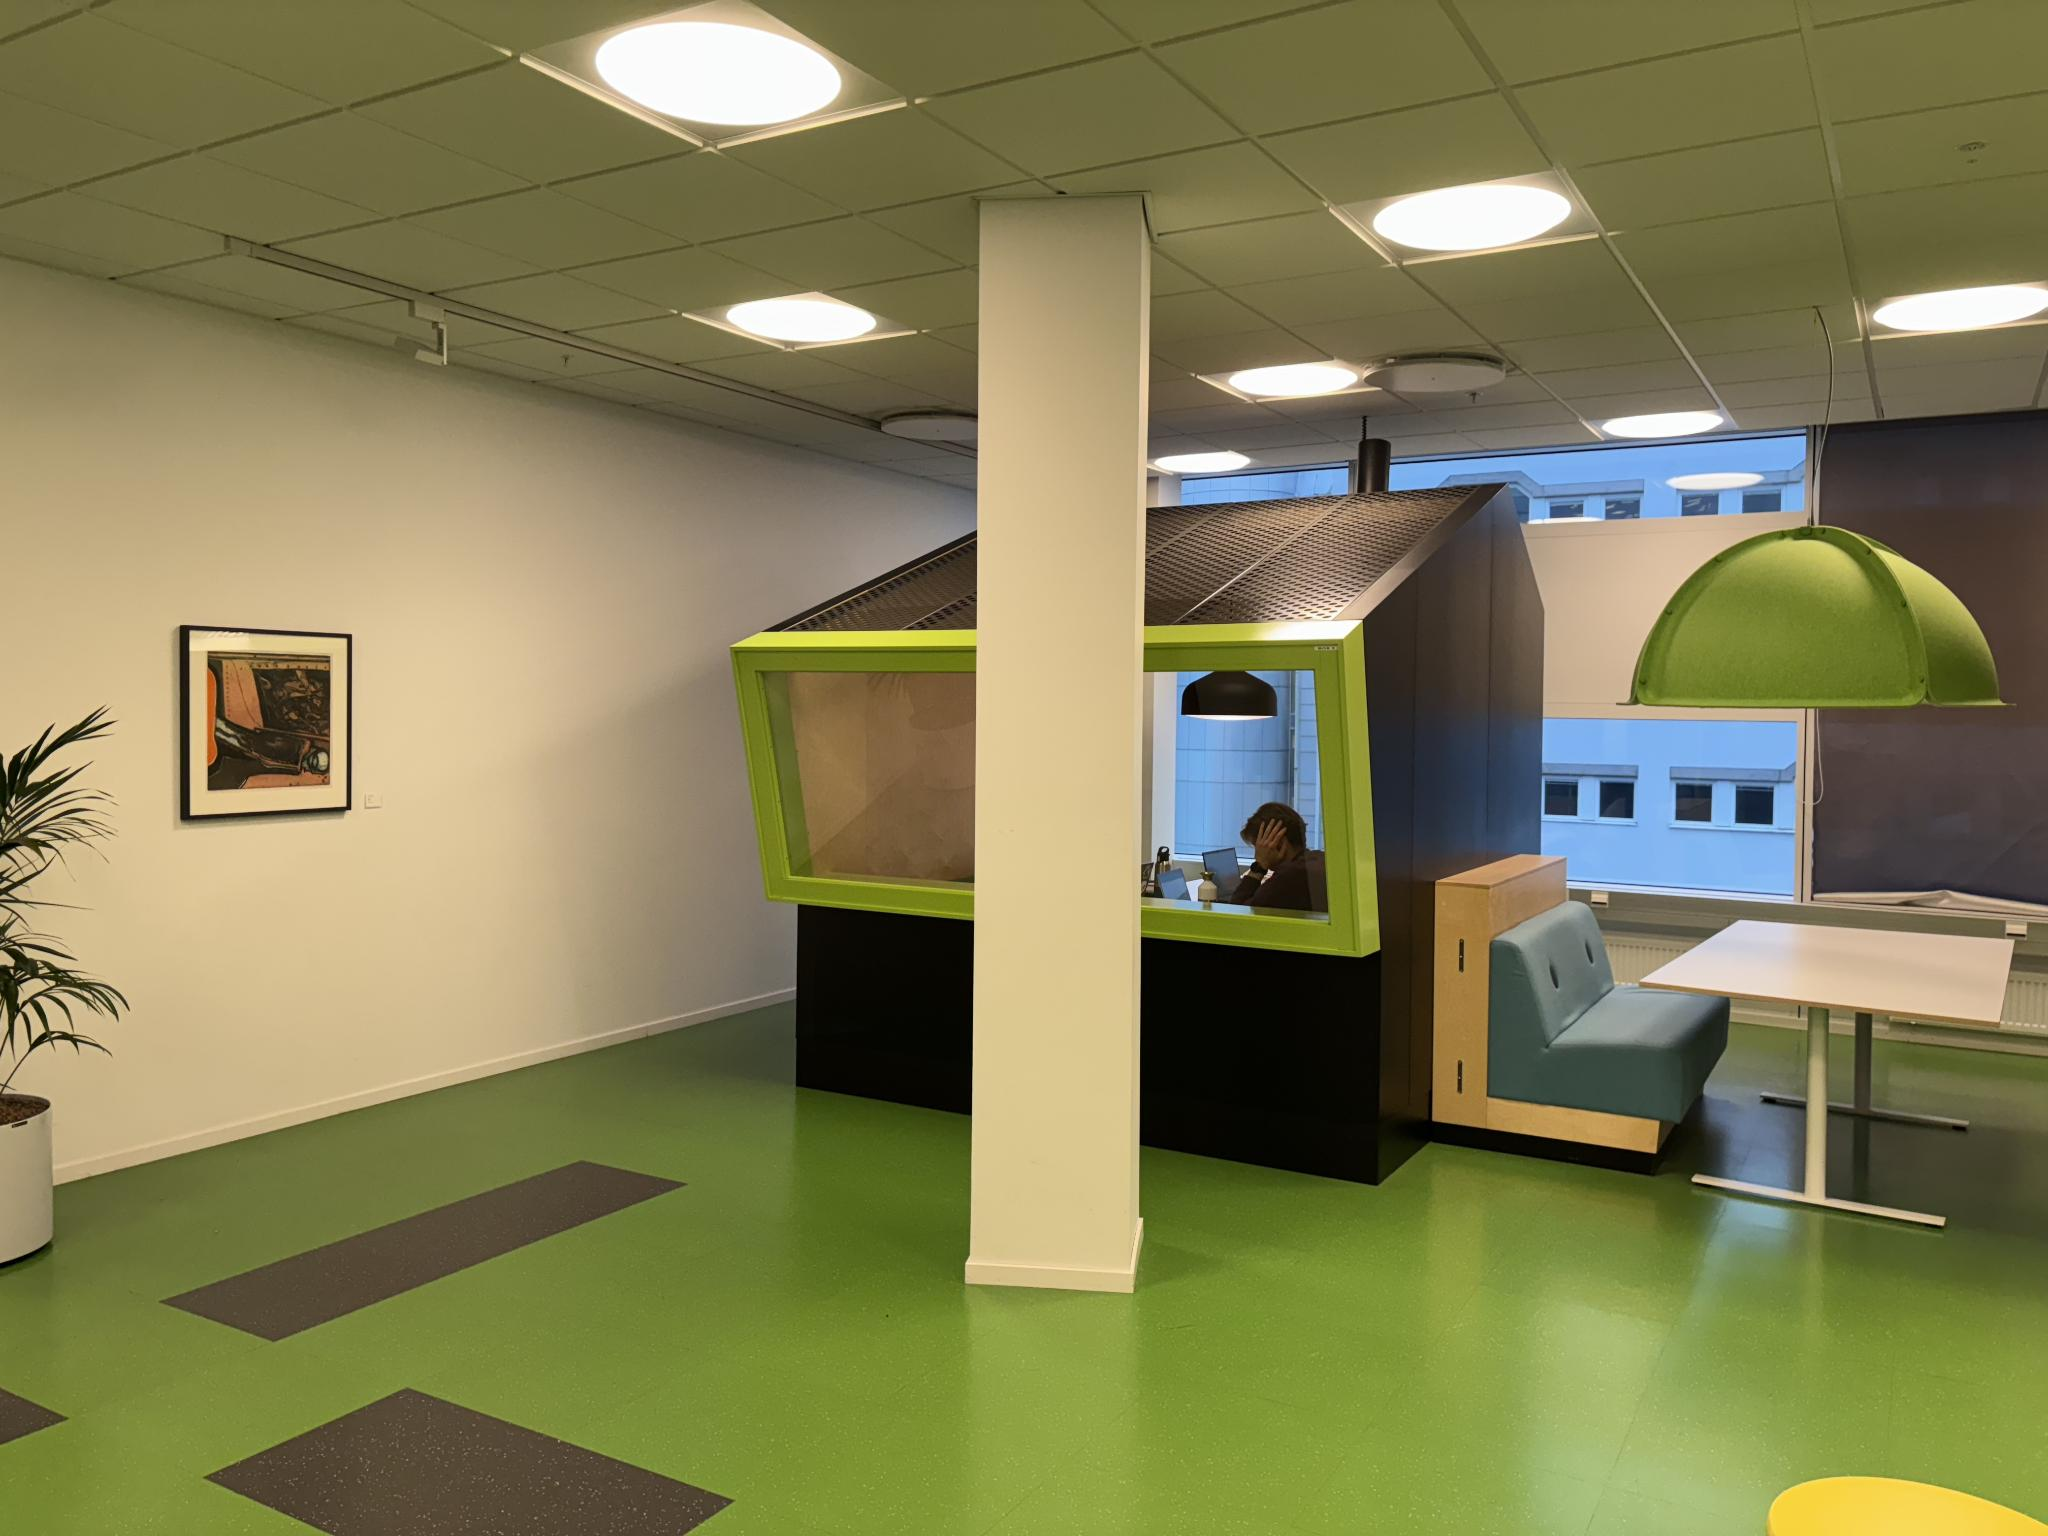person: (1242, 797, 1325, 915)
